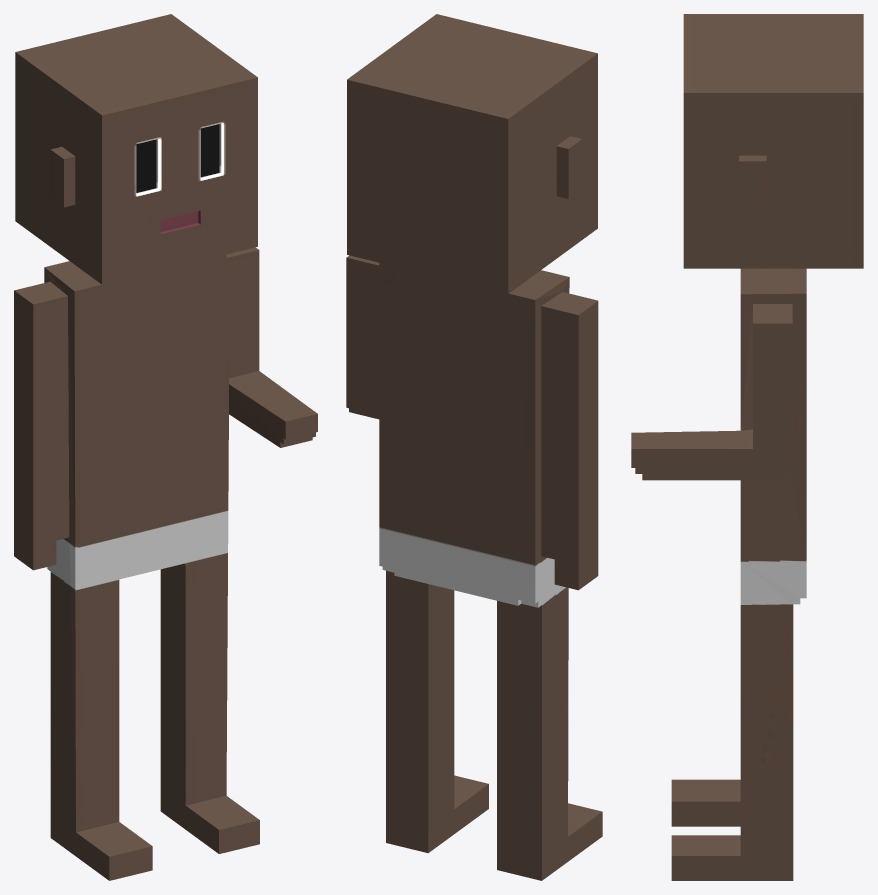
The model's file is male_dark.glb.
The picture shows the model from 3 angles, left to right: view 1: azimuth 30°, elevation 25°; view 2: azimuth 150°, elevation 25°; view 3: azimuth 270°, elevation 25°; orthographic projection. The views are drawn at different scales.
Visible parts, largest first — view 1: male_dark.001; view 2: male_dark.001; view 3: male_dark.001.
Part boxes in pixels (x1,y1,x2,y2): male_dark.001: (14,14,317,880); male_dark.001: (346,14,602,880); male_dark.001: (631,14,863,880).
Bounding box in the file's own units: 3.9 × 12.6 × 3.36.
1 material, 1 textured.
